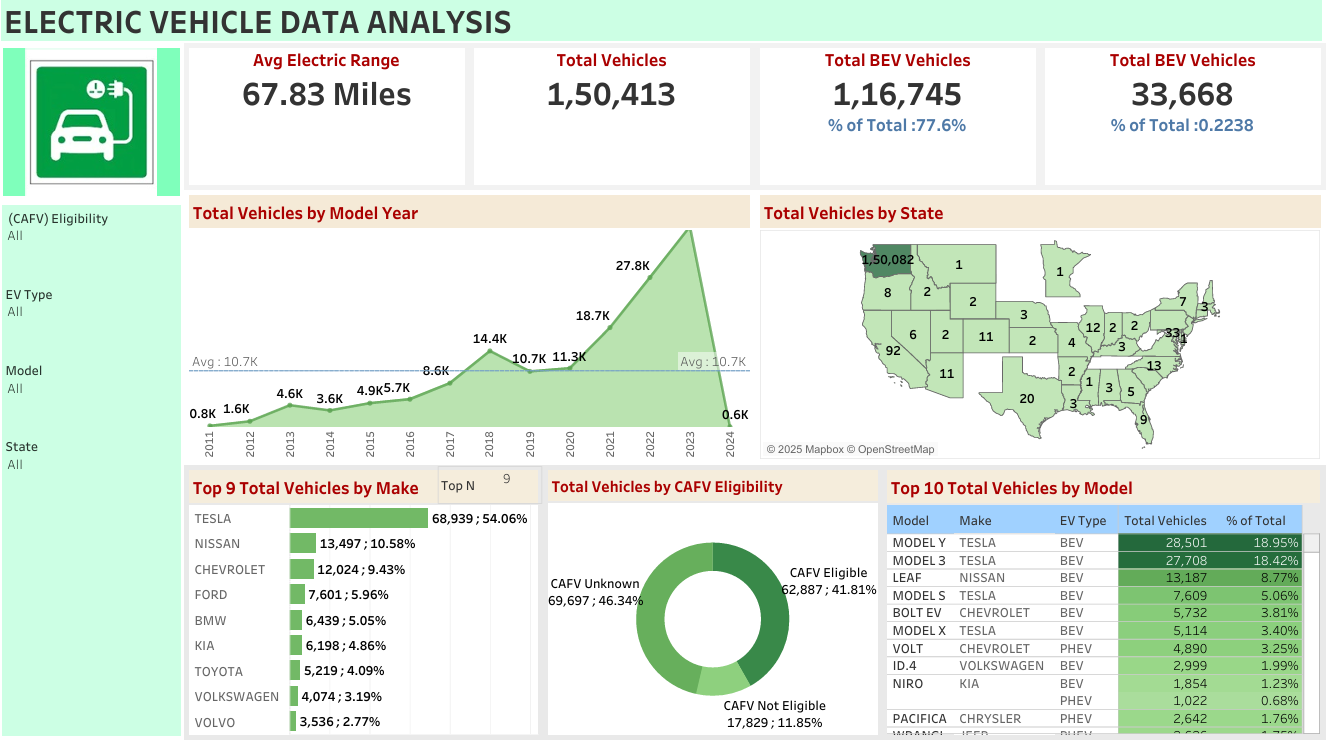

This screenshot's page, from the dashboard's own definition file:
{"tool":"tableau","page":{"name":"EV DATA ANALYSIS","canvas":[1600,900],"ordinal":0},"visuals":[{"type":"title","box":[6,6,1588,56.2]},{"type":"image","param":"C:/Users/SHIVA TEJA/OneDrive/Pictures/Screenshots/Screenshot 2025-10-17 084842.p","box":[6,62.3,223,187.7]},{"type":"worksheet","title":"Avg Electric Range","mark":"Automatic","box":[229,62.3,341.2,174.8]},{"type":"worksheet","title":" Total Vehicles","mark":"Automatic","box":[570.3,62.3,341.2,174.8]},{"type":"worksheet","title":"Total BEV Vehicles","mark":"Automatic","box":[911.5,62.3,341.2,174.8]},{"type":"worksheet","title":"Total PHEV Veicles","mark":"Automatic","box":[1252.8,62.3,341.2,174.8]},{"type":"worksheet","title":"Total Vehicles by Model Year ","mark":"Area","rows":["Calculation_785878199564156928","Calculation_785878199564156928"],"cols":["Model Year"],"box":[229,237,682.5,328.5]},{"type":"worksheet","title":"Total Vehicles by State","mark":"Multipolygon","box":[911.5,237,682.5,328.5]},{"type":"filter","title":"Total Vehicles by Model Year ","param":"[federated.1by9g4z0mzbgek15ugy5a02icx1b].[none:Clean Alternative Fuel Vehicle (C","box":[11,255,213,91]},{"type":"filter","title":"Total Vehicles by Model Year ","param":"[federated.1by9g4z0mzbgek15ugy5a02icx1b].[none:Electric Vehicle Type:nk]","box":[11,346,213,91]},{"type":"filter","title":"Total Vehicles by Model Year ","param":"[federated.1by9g4z0mzbgek15ugy5a02icx1b].[none:Model:nk]","box":[11,437,213,91]},{"type":"filter","title":"Total Vehicles by Model Year ","param":"[federated.1by9g4z0mzbgek15ugy5a02icx1b].[none:State:nk]","box":[11,528,213,91]},{"type":"worksheet","title":"Top 10 Total Vehicles by Make","mark":"Automatic","rows":["Make"],"cols":["Calculation_785878199564156928"],"box":[229,565.5,429,328.5]},{"type":"worksheet","title":". Total Vehicles by CAFV Eligibility","mark":"Pie","rows":["Calculation_1029354054469787649","Calculation_1029354054469787649"],"box":[658,565.5,406,328.5]},{"type":"worksheet","title":"Top 10 Total Vehicles by Model","mark":"Square","rows":["Model","Make","Electric Vehicle Type"],"box":[1064,565.5,530,328.5]},{"type":"parameter","param":"[Parameters].[Parameter 1]","box":[532,567,125,45]},{"type":"blank","box":[11,619,213,90]},{"type":"blank","box":[11,709,213,90]},{"type":"blank","box":[11,799,213,90]}]}

Visuals, with their boxes in screenshot pixels (x1, y1, x2, y2), scaled from the page's 1600x900 canvas onto the 1327x742 screenshot:
title: (5,5,1322,51)
image: (5,51,190,206)
"Avg Electric Range" worksheet: (190,51,473,195)
" Total Vehicles" worksheet: (473,51,756,195)
"Total BEV Vehicles" worksheet: (756,51,1039,195)
"Total PHEV Veicles" worksheet: (1039,51,1322,195)
"Total Vehicles by Model Year " worksheet (Area marks): (190,195,756,466)
"Total Vehicles by State" worksheet (Multipolygon marks): (756,195,1322,466)
"Total Vehicles by Model Year " filter: (9,210,186,285)
"Total Vehicles by Model Year " filter: (9,285,186,360)
"Total Vehicles by Model Year " filter: (9,360,186,435)
"Total Vehicles by Model Year " filter: (9,435,186,510)
"Top 10 Total Vehicles by Make" worksheet: (190,466,546,737)
". Total Vehicles by CAFV Eligibility" worksheet (Pie marks): (546,466,882,737)
"Top 10 Total Vehicles by Model" worksheet (Square marks): (882,466,1322,737)
parameter: (441,467,545,505)
blank: (9,510,186,585)
blank: (9,585,186,659)
blank: (9,659,186,733)
